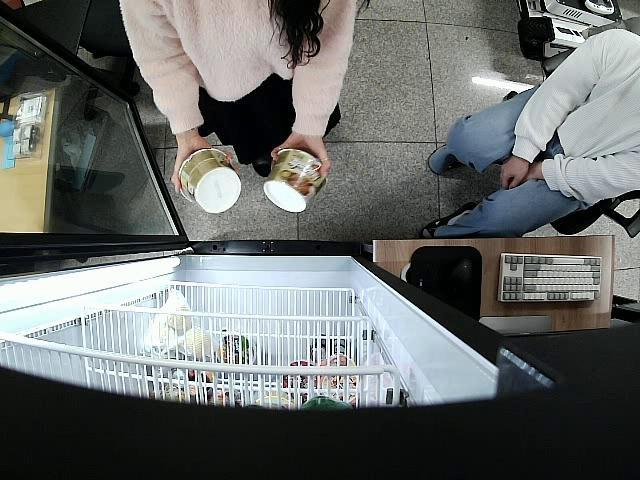03_chapagetti_L: (262, 148, 325, 212), (180, 149, 242, 212)
